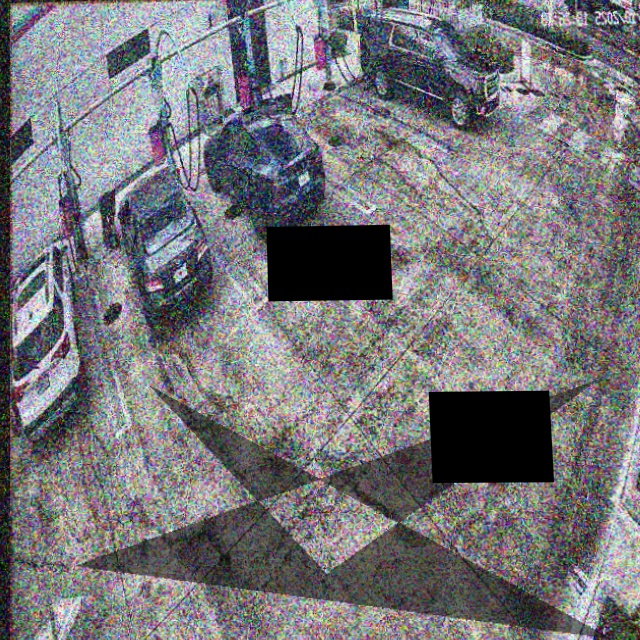Car: (203, 94, 325, 239), (118, 165, 211, 323)
